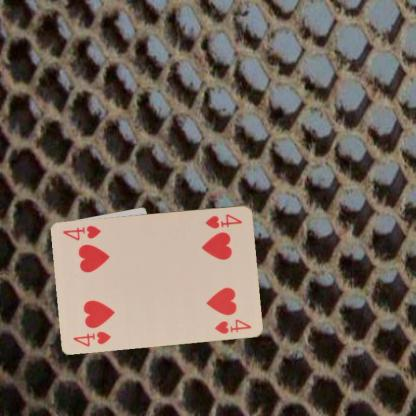4h: (71, 328, 112, 348), (203, 211, 243, 229)
